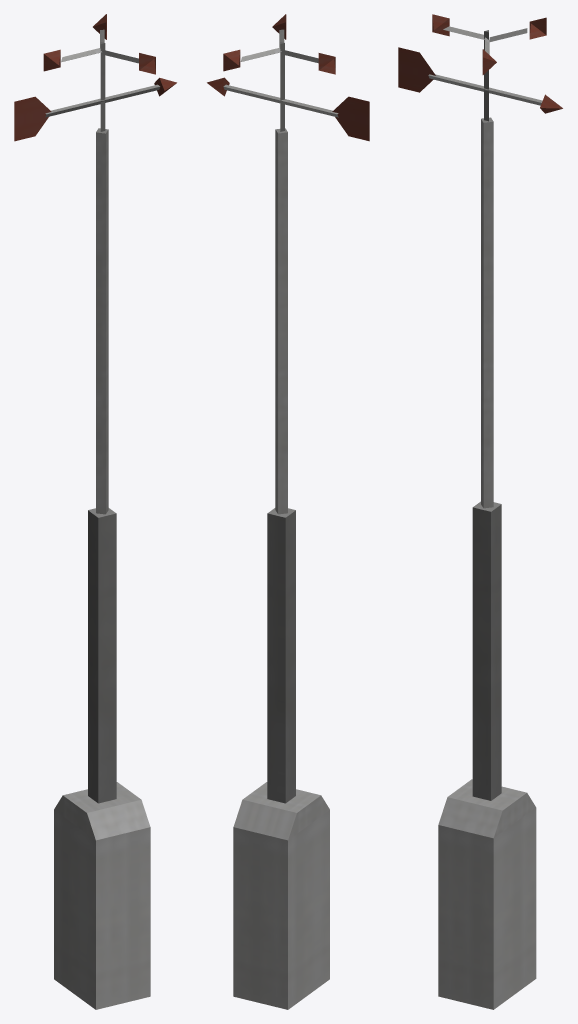
File: weather-station-anemometer-cbj_LOD01.gltf
3 views of the same model, side by side, from view 1: azimuth 30°, elevation 25°; view 2: azimuth 150°, elevation 25°; view 3: azimuth 330°, elevation 25° (orthographic).
Parts seen in each view (by area): view 1: Cube01; view 2: Cube01; view 3: Cube01.
Part boxes in pixels (x1,y1,x2,y2): Cube01: (14,14,176,1009); Cube01: (207,14,369,1009); Cube01: (398,14,562,1009).
Size of the model in its own units: 1.79 by 9.94 by 1.07.
